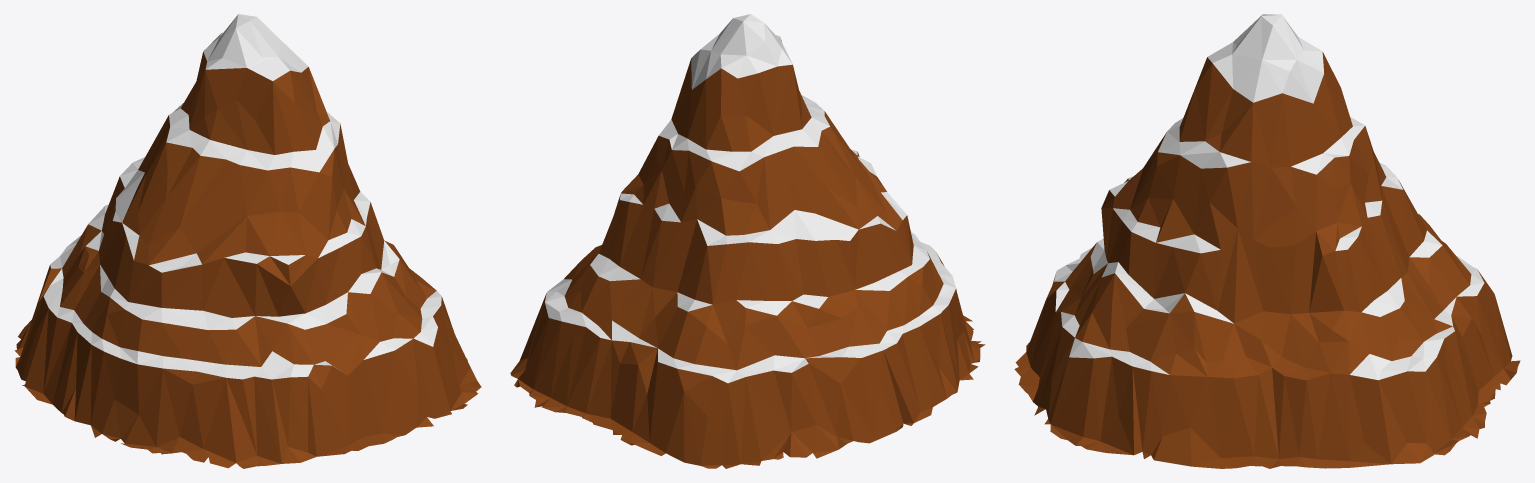
Rendered from Mountain_2_Snow_LOD_Medium.fbx.
The picture shows the model from 3 angles, left to right: view 1: azimuth 30°, elevation 25°; view 2: azimuth 150°, elevation 25°; view 3: azimuth 270°, elevation 25°; orthographic projection. The views are drawn at different scales.
Parts seen in each view (by area): view 1: Mountain_2_Snow_LOD_Medium; view 2: Mountain_2_Snow_LOD_Medium; view 3: Mountain_2_Snow_LOD_Medium.
Part boxes in pixels (x1,y1,x2,y2): Mountain_2_Snow_LOD_Medium: (14, 14, 481, 468); Mountain_2_Snow_LOD_Medium: (510, 14, 985, 468); Mountain_2_Snow_LOD_Medium: (1014, 14, 1520, 468).
Bounding box in the file's own units: 11818 × 10473 × 12992.
